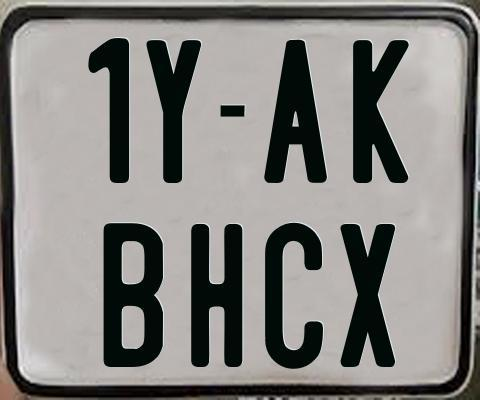1: (87, 37, 131, 186)
A: (261, 37, 327, 183)
B: (102, 221, 164, 365)
C: (262, 220, 326, 372)
H: (190, 223, 245, 372)
K: (353, 39, 415, 185)
X: (339, 223, 397, 371)
Y: (143, 38, 204, 181)
